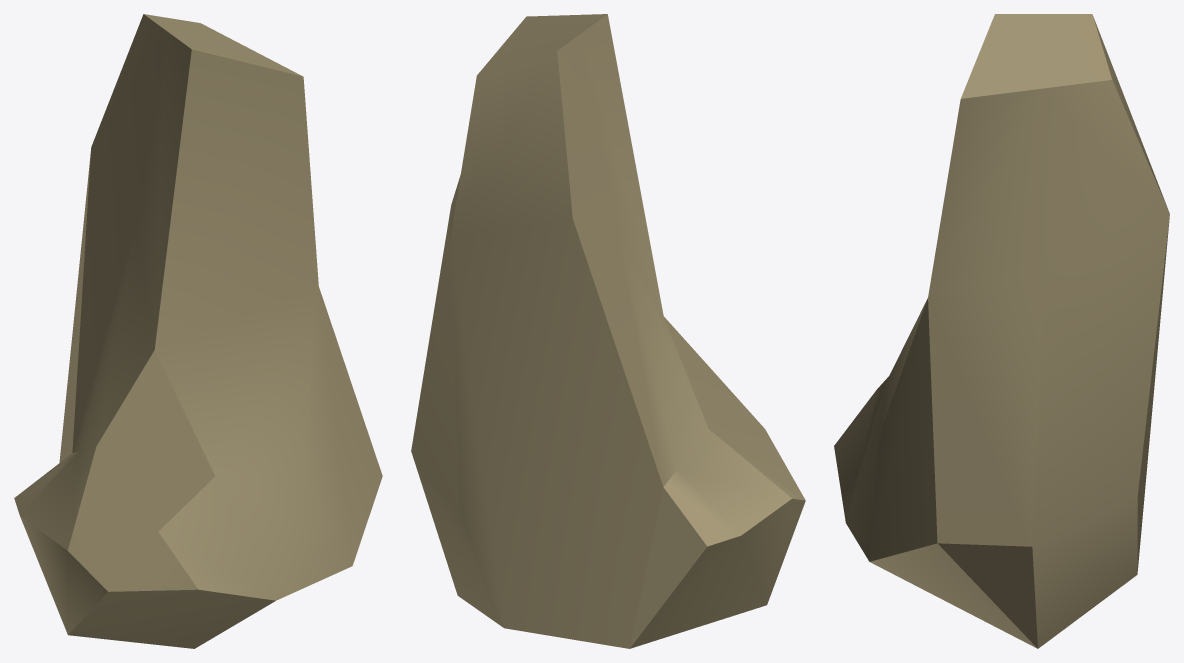
The model's file is rock_3.fbx.
The picture shows the model from 3 angles, left to right: view 1: azimuth 30°, elevation 25°; view 2: azimuth 150°, elevation 25°; view 3: azimuth 270°, elevation 25°; orthographic projection. The views are drawn at different scales.
Visible parts, largest first — view 1: rock_3; view 2: rock_3; view 3: rock_3.
Boxes of the visible parts, x1,y1,x2,y2 form: rock_3: (14, 14, 382, 648); rock_3: (411, 14, 805, 648); rock_3: (834, 14, 1169, 648).
Bounding box in the file's own units: 11.39 × 19.7 × 10.29.
